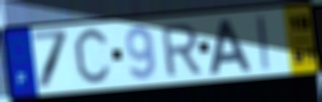7: (30, 28, 71, 93)
9: (124, 23, 158, 83)
A: (208, 17, 254, 76)
C: (72, 24, 114, 90)
I: (255, 13, 274, 72)
R: (159, 21, 203, 79)
